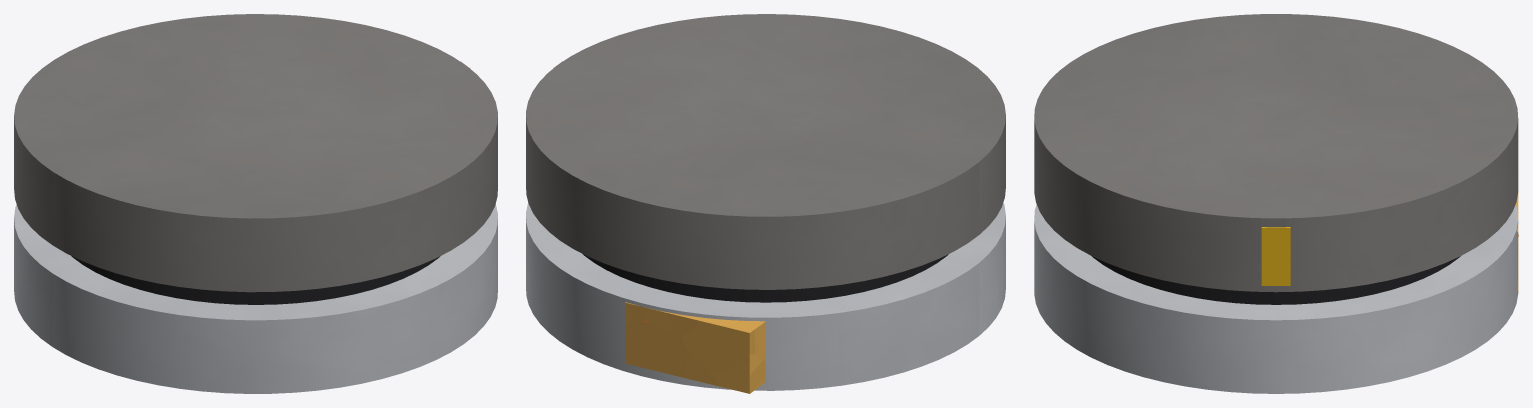
File: robo01_rotor_s.glb
The picture shows the model from 3 angles, left to right: view 1: azimuth 30°, elevation 25°; view 2: azimuth 150°, elevation 25°; view 3: azimuth 270°, elevation 25°; orthographic projection.
Visible parts, largest first — view 1: half_b_rotor, base, bearing; view 2: half_b_rotor, base, drive, bearing; view 3: half_b_rotor, base, bearing, half_b_mark.
Part boxes in pixels (x1,y1,x2,y2): half_b_rotor: [14, 14, 497, 292]; base: [14, 204, 497, 393]; bearing: [71, 256, 440, 304]; half_b_rotor: [526, 14, 1005, 289]; base: [526, 202, 1005, 390]; drive: [625, 302, 765, 393]; bearing: [583, 254, 948, 302]; half_b_rotor: [1034, 14, 1518, 292]; base: [1034, 204, 1518, 393]; bearing: [1092, 256, 1460, 304]; half_b_mark: [1261, 227, 1290, 285].
Size of the model in its own units: 0.6266 by 0.25 by 0.6255.
Materials: 6 (3 with a texture image).
